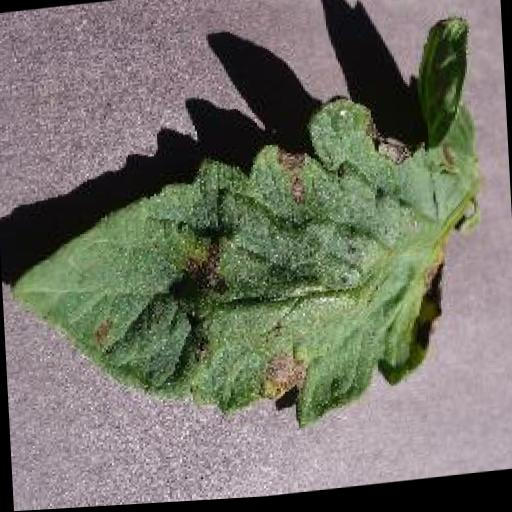Early Blight: (0, 18, 494, 454)
